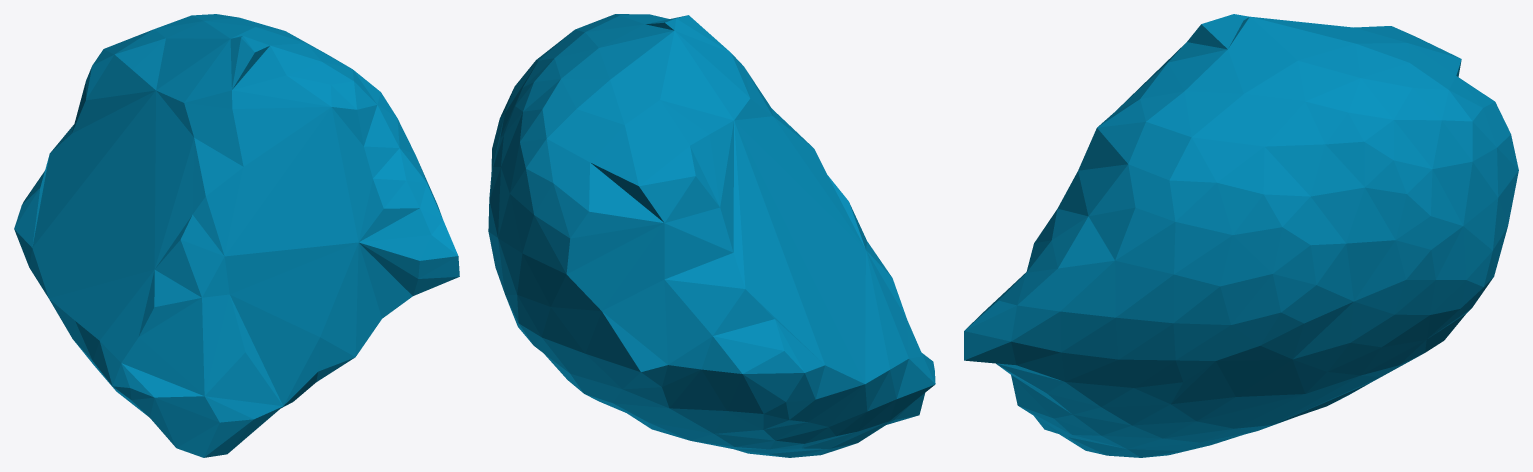
File: Model_10240_LH__Nucleus_of_the_vertical_limb_of_the_diagonal_band_(VDB).obj
The picture shows the model from 3 angles, left to right: view 1: azimuth 30°, elevation 25°; view 2: azimuth 150°, elevation 25°; view 3: azimuth 270°, elevation 25°; orthographic projection. The views are drawn at different scales.
Bounding box in the file's own units: 0.7761 × 0.8305 × 0.8869.
